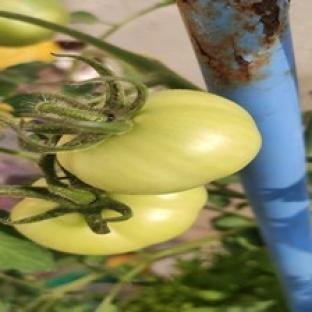Tomato: (58, 90, 261, 193), (16, 187, 207, 254)
